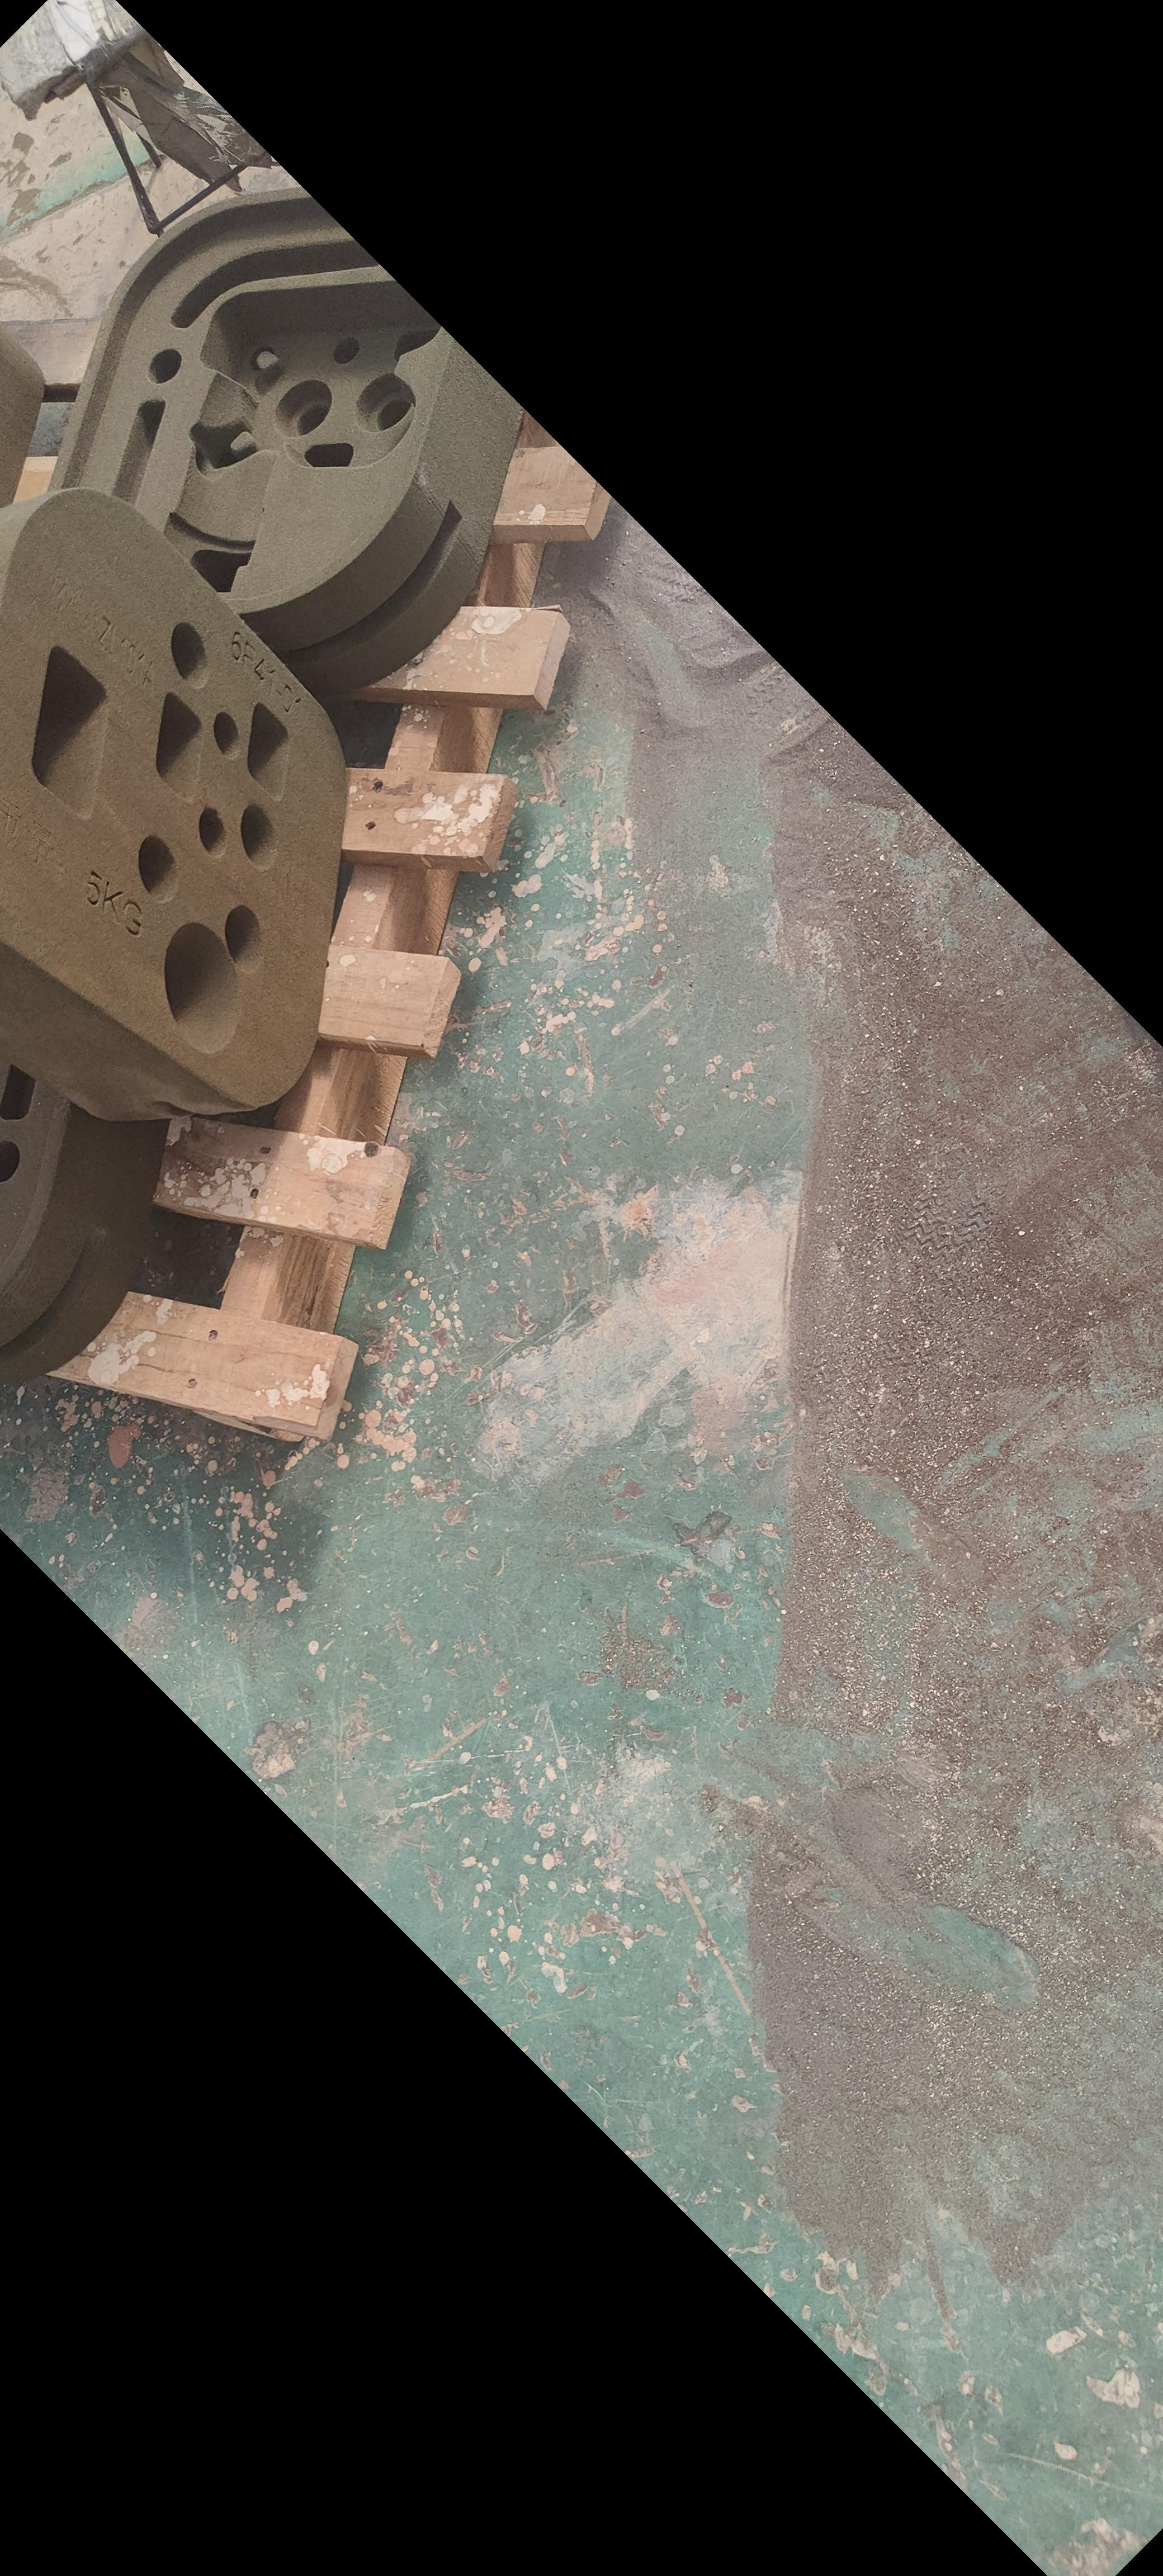pouring hole: (163, 923, 240, 1051)
